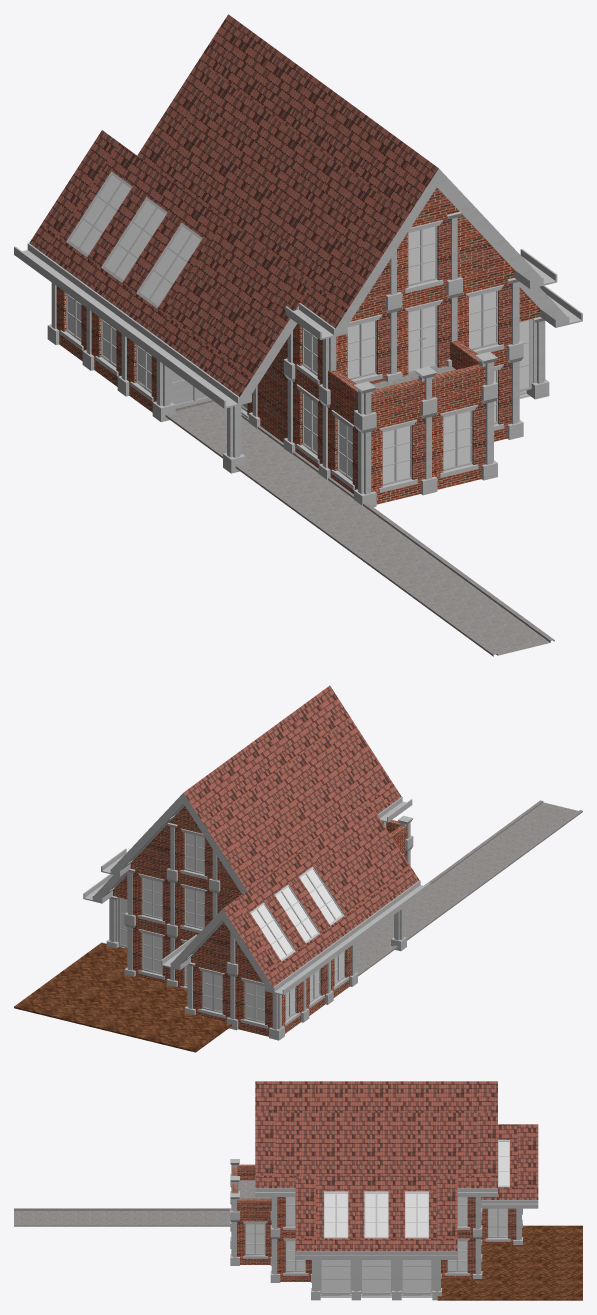
Rendered from royal-house.glb.
3 views of the same model, one above another, from view 1: azimuth 30°, elevation 25°; view 2: azimuth 150°, elevation 25°; view 3: azimuth 270°, elevation 25° (orthographic). The views are drawn at different scales.
Bounding box in the file's own units: 23.6 × 19 × 56.28.
Materials: 8 (6 with a texture image).
